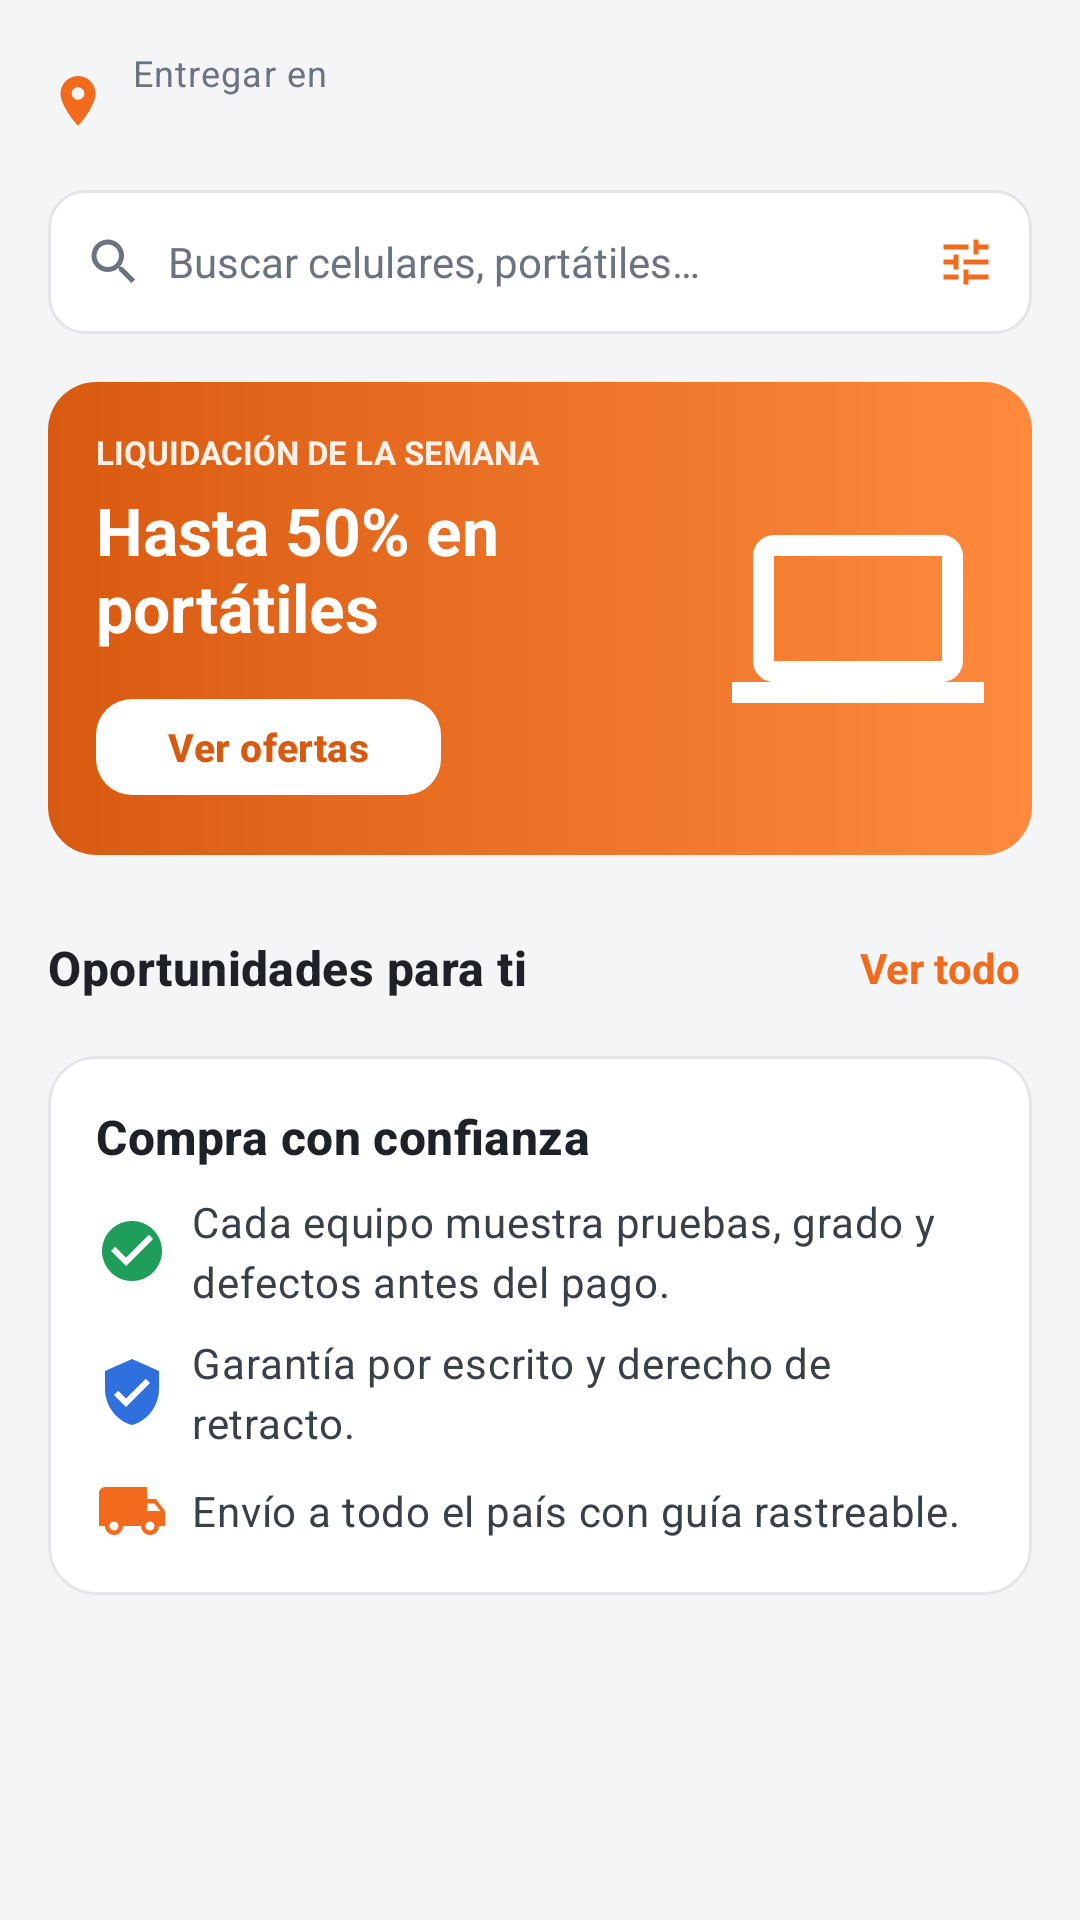

Where icons sit on this 1080×1920 app screen, as [left=x1, top=y1, right=x2, bottom=y2]:
dev laptop: [left=732, top=535, right=984, bottom=703]
filter: [left=943, top=239, right=989, bottom=285]
location: [left=60, top=76, right=96, bottom=126]
search: [left=91, top=239, right=135, bottom=283]
